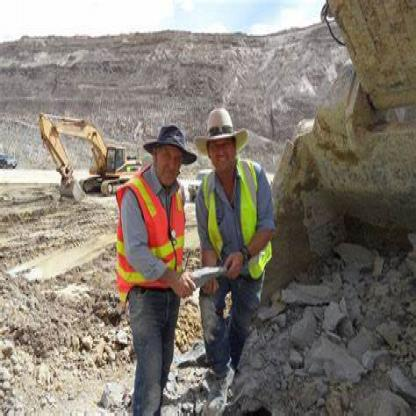person: (107, 106, 200, 408), (197, 80, 273, 400)
